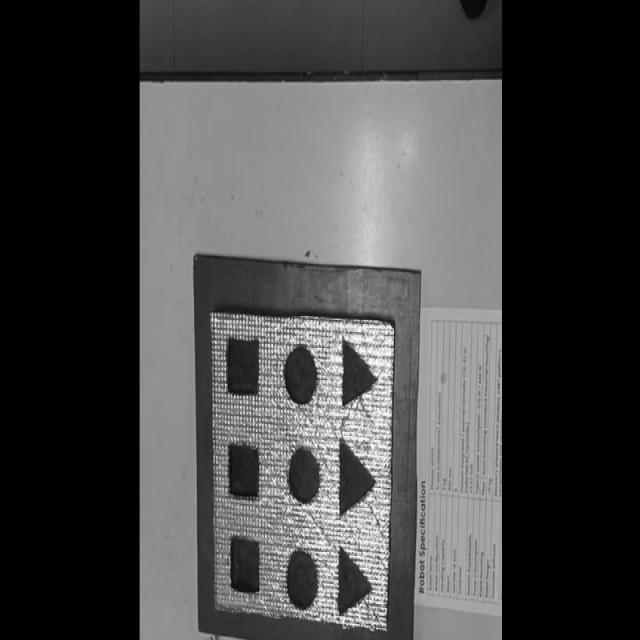mtcircle: (284, 345, 318, 405), (286, 549, 318, 609), (288, 446, 321, 504)
mtcube: (226, 337, 261, 397), (228, 442, 261, 499), (230, 534, 261, 594)
mttriangle: (338, 438, 376, 517), (341, 338, 378, 408), (337, 545, 372, 617)
wb: (208, 309, 396, 632)
